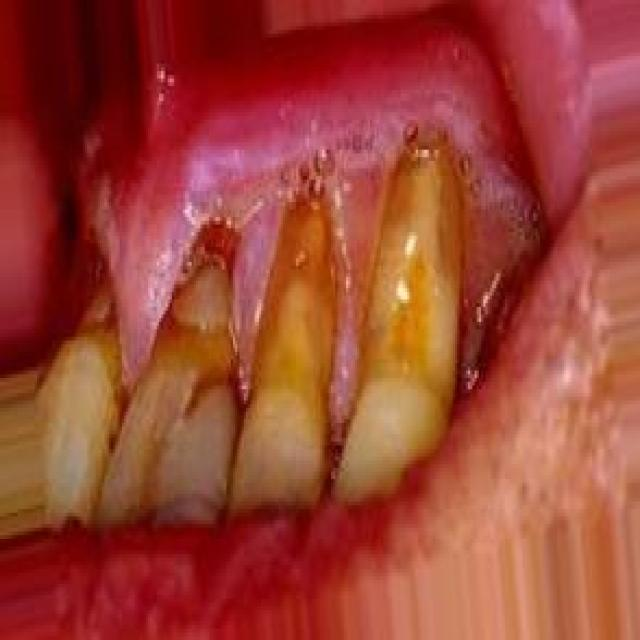caries: (143, 210, 241, 350), (65, 232, 128, 348)
